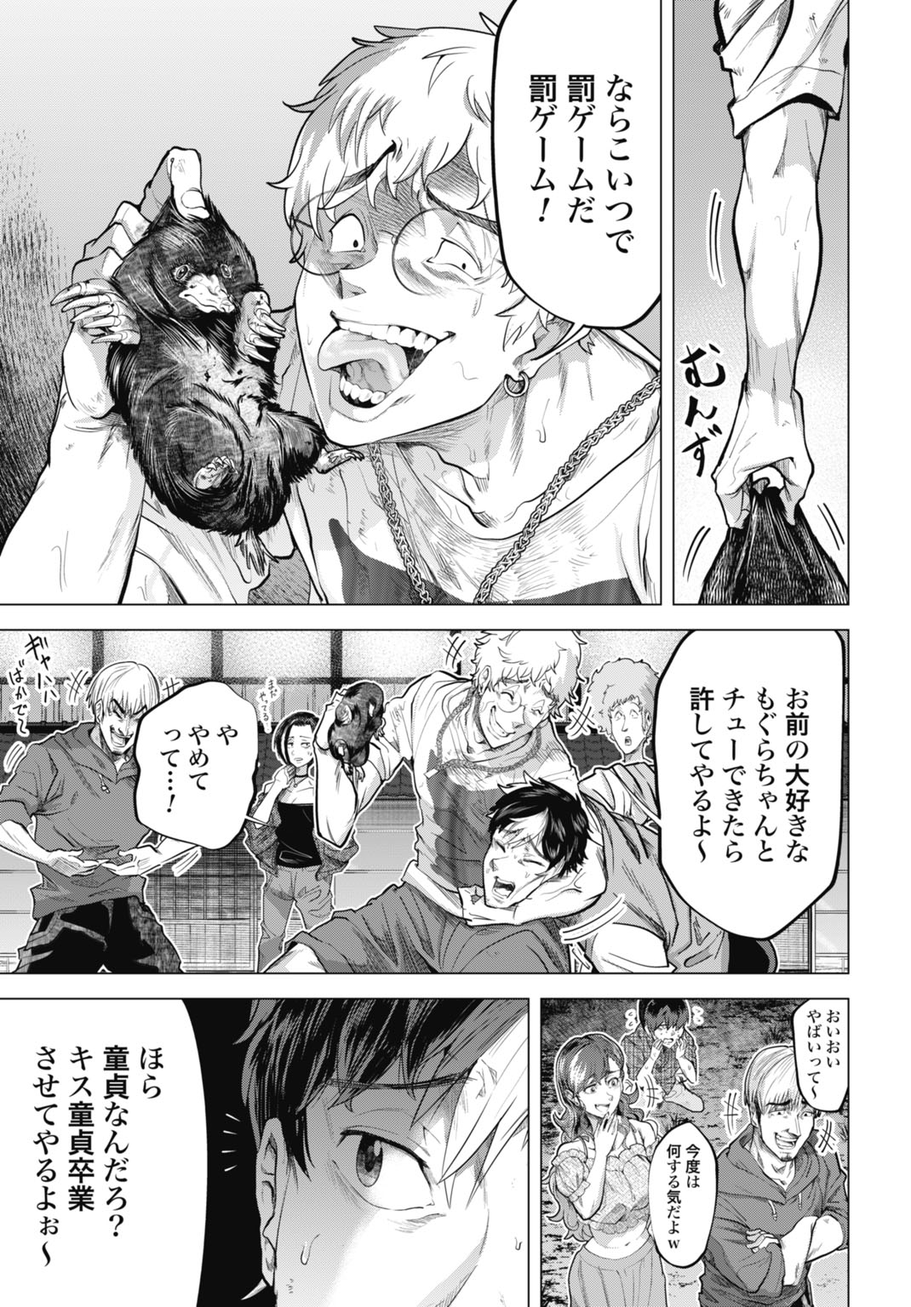bubbles: (1, 996, 215, 1306), (643, 629, 851, 947), (488, 1, 662, 367), (127, 674, 263, 859), (646, 1120, 722, 1271), (787, 996, 850, 1120)
